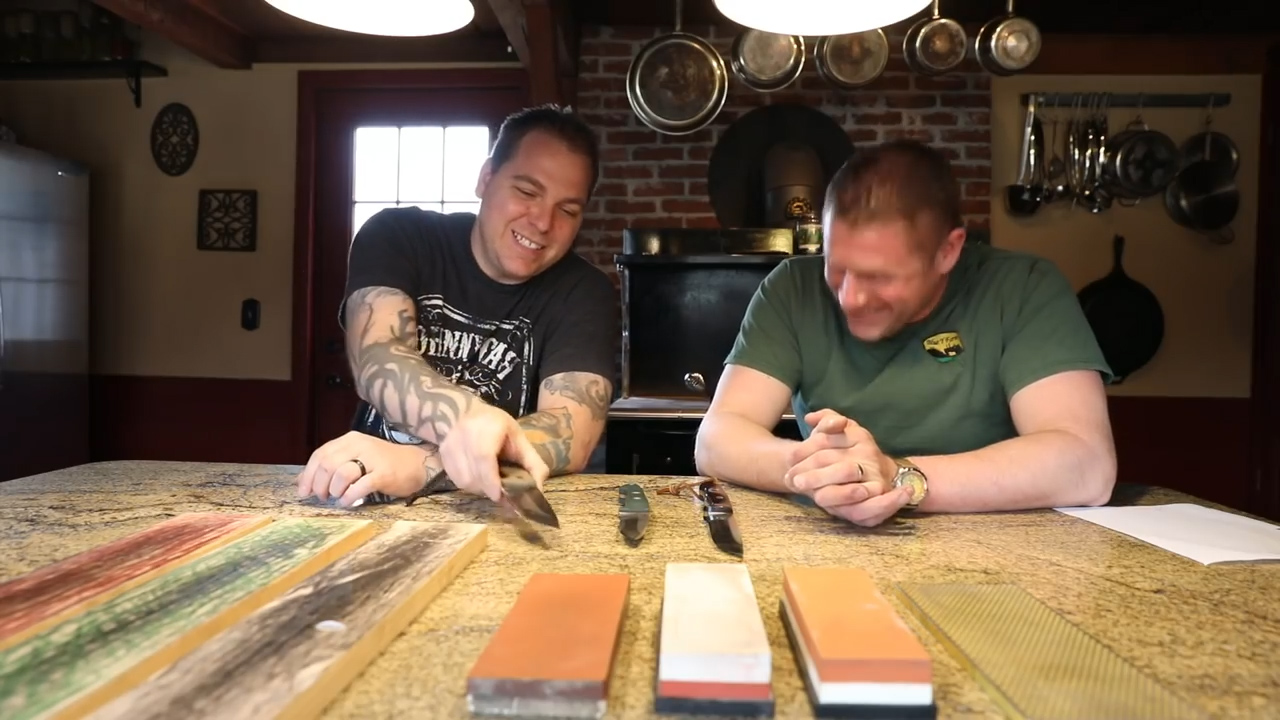knife: (455, 428, 578, 541)
